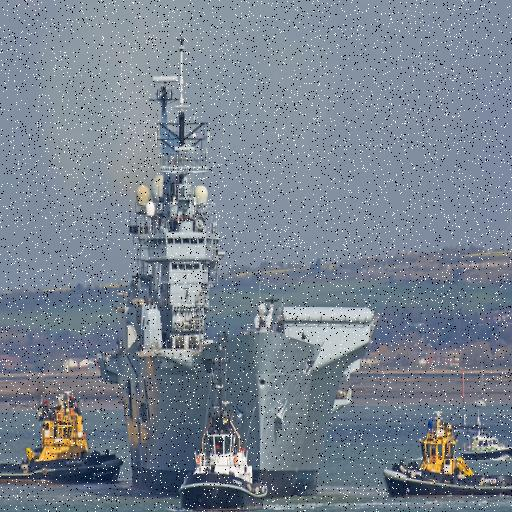Portanaves: (104, 44, 379, 503)
